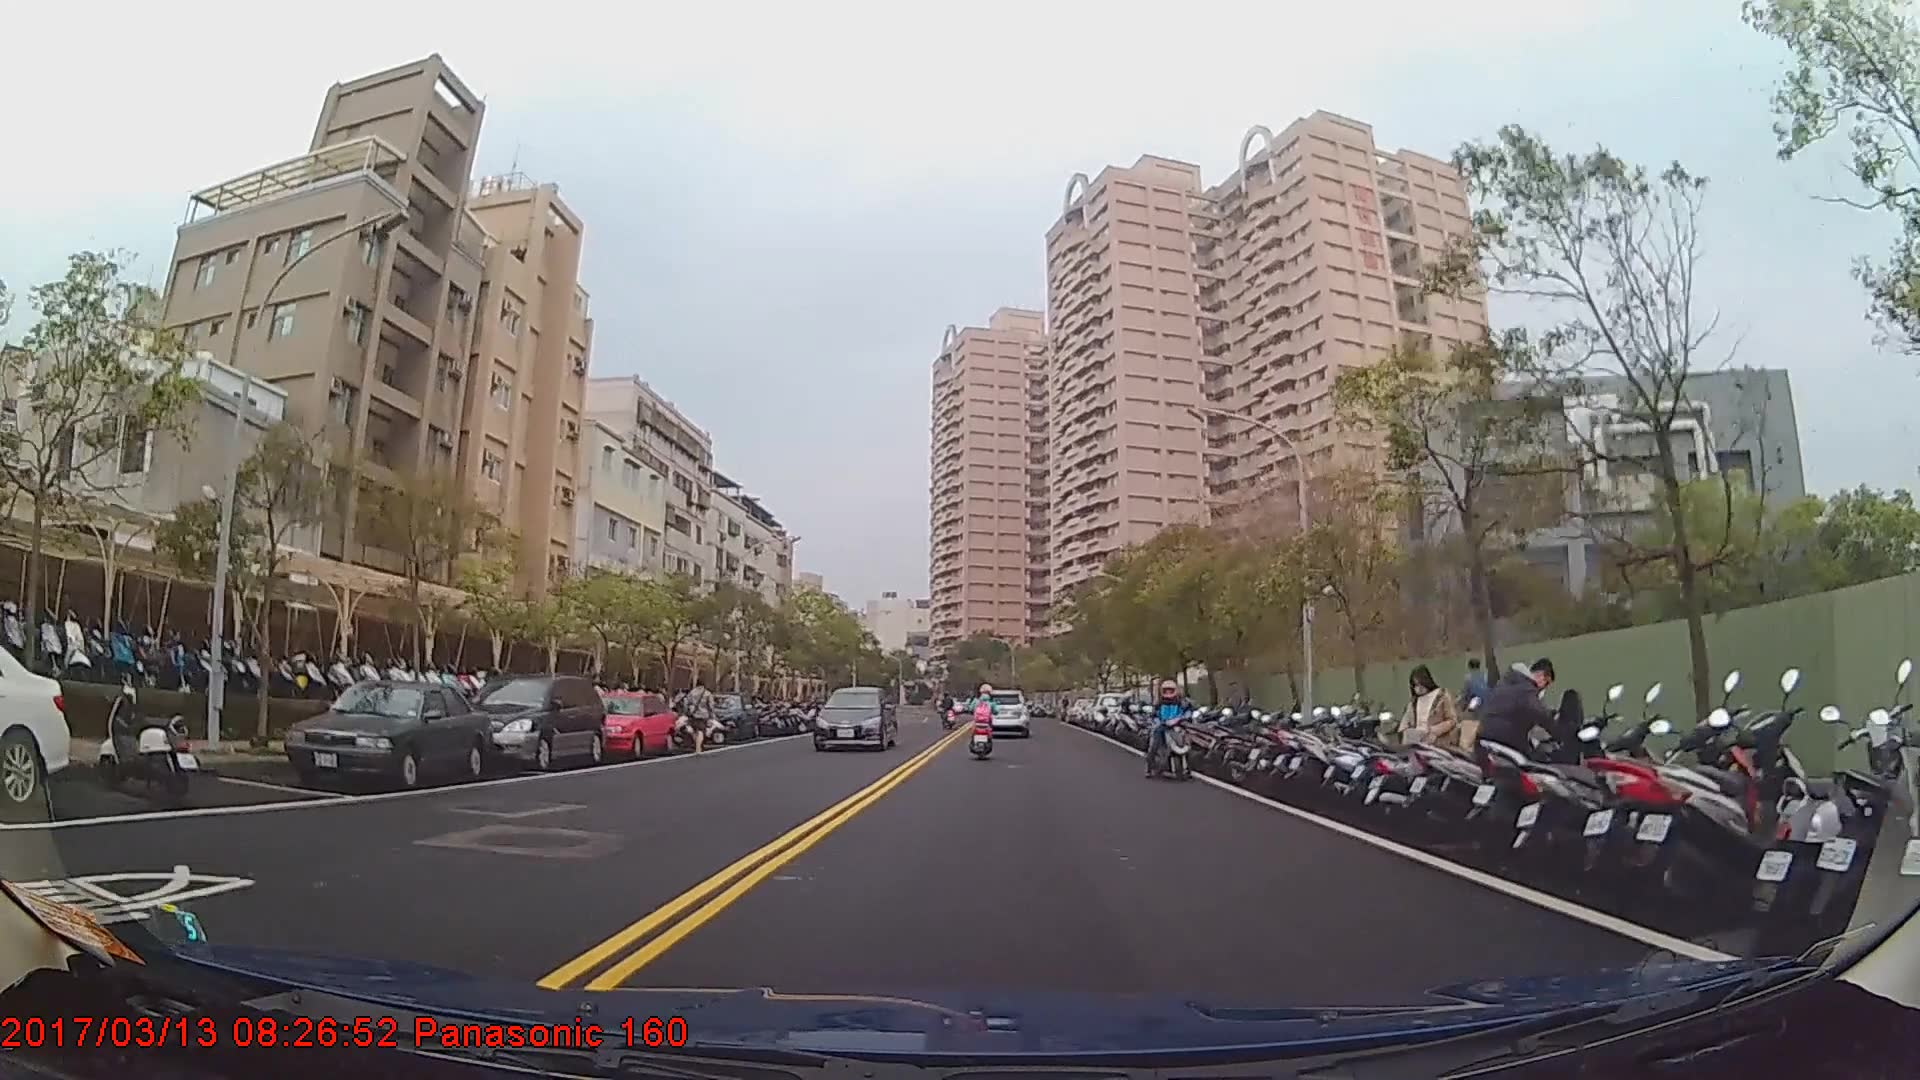pedestrian: (1478, 655, 1575, 843), (1401, 664, 1465, 826), (1466, 654, 1503, 766), (684, 679, 717, 758)
rider: (1142, 676, 1195, 779), (969, 684, 1001, 755)
vehicle: (282, 676, 489, 788), (455, 670, 605, 770), (0, 637, 69, 809), (578, 686, 678, 755), (814, 685, 898, 752), (978, 684, 1032, 738)
